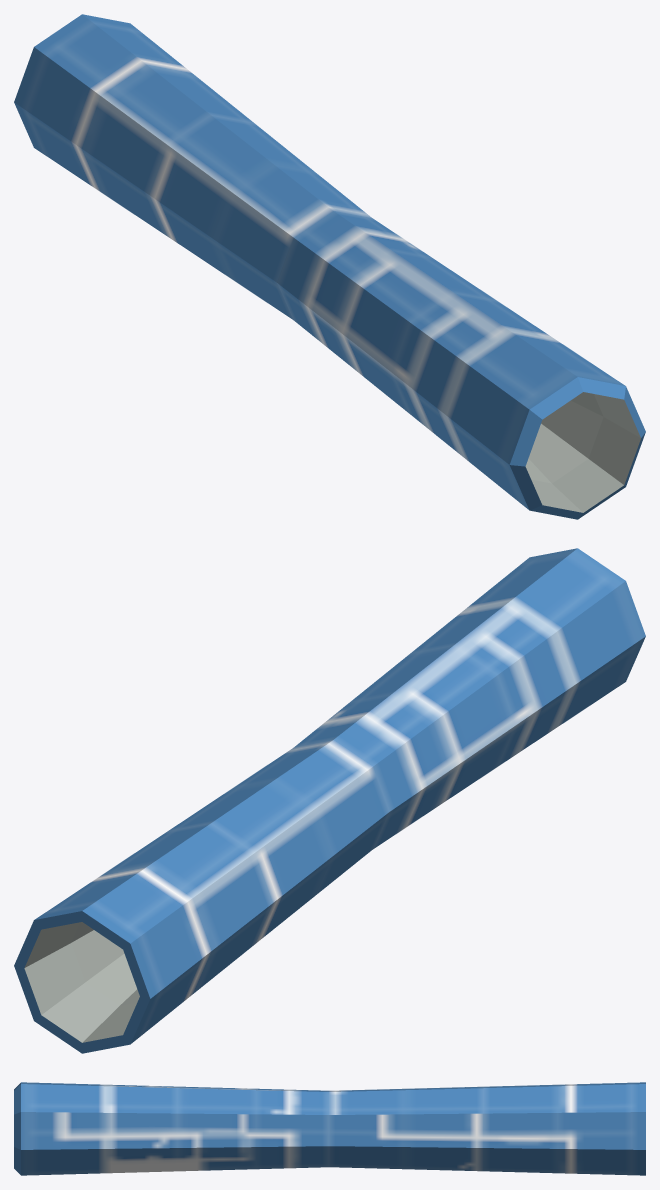
Rendered from SM_Prop_Plans_08.fbx.
The picture shows the model from 3 angles, top to bottom: view 1: azimuth 30°, elevation 25°; view 2: azimuth 150°, elevation 25°; view 3: azimuth 270°, elevation 25°; orthographic projection. The views are drawn at different scales.
Parts seen in each view (by area): view 1: SM_Prop_Plans_08; view 2: SM_Prop_Plans_08; view 3: SM_Prop_Plans_08.
Boxes of the visible parts, x1,y1,x2,y2 form: SM_Prop_Plans_08: (14,14,645,519); SM_Prop_Plans_08: (14,548,645,1053); SM_Prop_Plans_08: (14,1082,645,1175).
Bounding box in the file's own units: 10.59 × 10.59 × 67.38.
